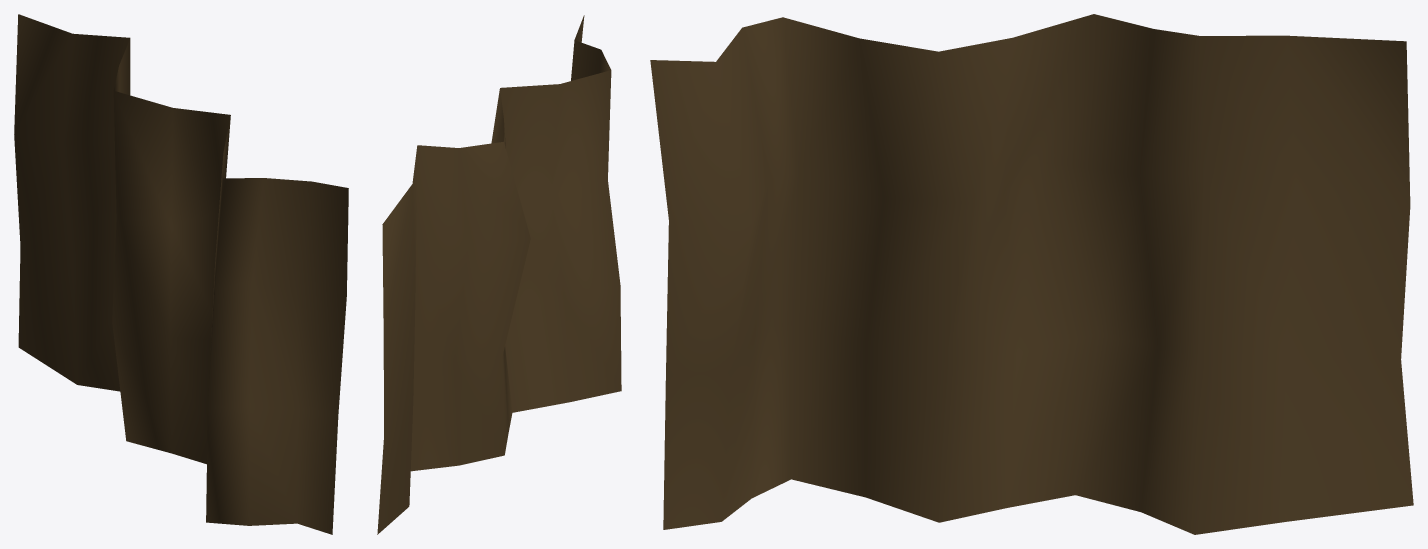
File: SWORDLIGHT20_PS-AREA03_101.fbx
3 renders of one model, left to right at view 1: azimuth 30°, elevation 25°; view 2: azimuth 150°, elevation 25°; view 3: azimuth 270°, elevation 25°, orthographic. The views are drawn at different scales.
Visible parts, largest first — view 1: SWORDLIGHT20_PS-AREA03_101; view 2: SWORDLIGHT20_PS-AREA03_101; view 3: SWORDLIGHT20_PS-AREA03_101.
Boxes of the visible parts, left/top/right/bottom form: SWORDLIGHT20_PS-AREA03_101: left=14, top=14, right=348, bottom=534; SWORDLIGHT20_PS-AREA03_101: left=377, top=15, right=621, bottom=534; SWORDLIGHT20_PS-AREA03_101: left=650, top=14, right=1413, bottom=534.
Bounding box in the file's own units: 42765 × 154556 × 213435.
Materials: 1 (1 with a texture image).
